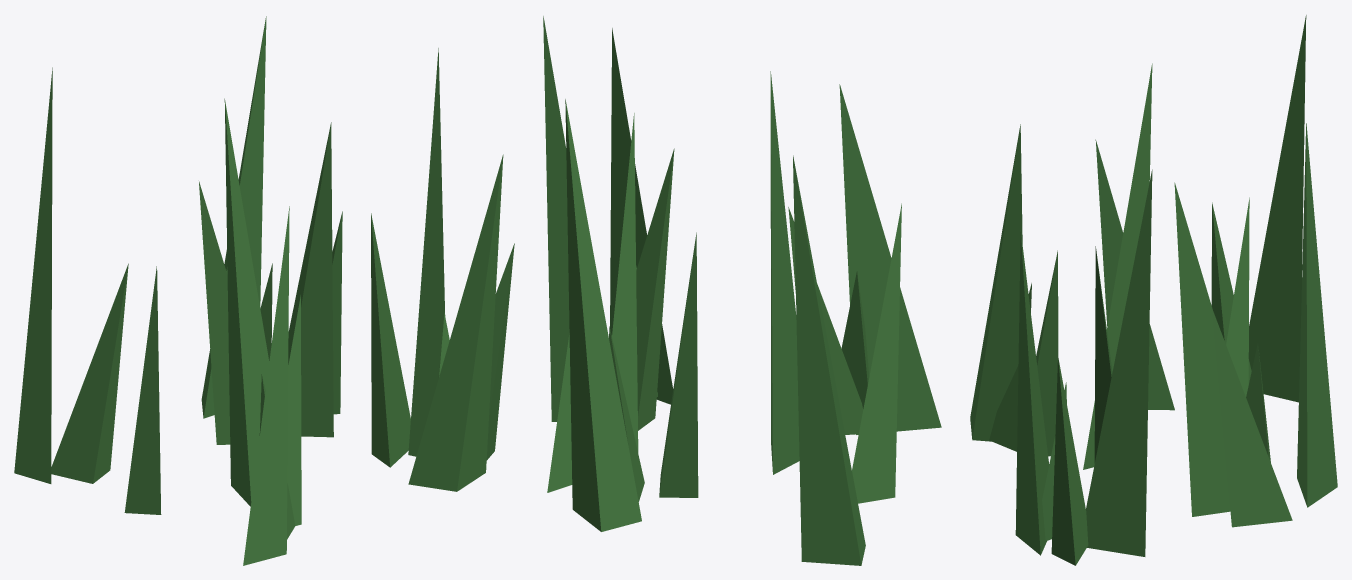
The model's file is Grass.fbx.
The picture shows the model from 3 angles, left to right: view 1: azimuth 30°, elevation 25°; view 2: azimuth 150°, elevation 25°; view 3: azimuth 270°, elevation 25°; orthographic projection. The views are drawn at different scales.
Visible parts, largest first — view 1: pCone1, pCone9, pCone11, pCone15, pCone6, pCone17, pCone2, pCone3, pCone7, pCone14, pCone12, pCone10 (+3 smaller); view 2: pCone14, pCone15, pCone6, pCone9, pCone7, pCone2, pCone12, pCone3, pCone1, pCone11, pCone10, pCone16 (+2 smaller); view 3: pCone2, pCone15, pCone11, pCone14, pCone6, pCone16, pCone1, pCone4, pCone9, pCone7, pCone10, pCone12 (+5 smaller).
Part boxes in pixels (<box>): pCone1: <box>408,154,503,491</box>; pCone9: <box>224,98,269,506</box>; pCone11: <box>288,122,333,437</box>; pCone15: <box>14,67,52,483</box>; pCone6: <box>243,206,289,565</box>; pCone17: <box>51,263,128,483</box>; pCone2: <box>408,48,445,456</box>; pCone3: <box>371,213,410,467</box>; pCone7: <box>124,266,161,514</box>; pCone14: <box>201,16,266,418</box>; pCone12: <box>199,181,230,444</box>; pCone10: <box>287,295,301,525</box>; pCone14: <box>565,99,641,531</box>; pCone15: <box>793,155,865,565</box>; pCone6: <box>839,84,941,434</box>; pCone9: <box>770,71,799,474</box>; pCone7: <box>852,203,901,503</box>; pCone2: <box>543,16,569,421</box>; pCone12: <box>659,232,698,497</box>; pCone3: <box>636,148,674,430</box>; pCone1: <box>610,28,673,404</box>; pCone11: <box>612,113,638,452</box>; pCone10: <box>788,207,863,434</box>; pCone16: <box>547,333,572,492</box>; pCone2: <box>1086,169,1152,556</box>; pCone15: <box>1248,15,1306,402</box>; pCone11: <box>1174,182,1230,516</box>; pCone14: <box>1297,123,1337,507</box>; pCone6: <box>970,124,1022,441</box>; pCone16: <box>1212,308,1292,527</box>; pCone1: <box>1015,230,1049,555</box>; pCone4: <box>1051,356,1088,565</box>; pCone9: <box>1083,63,1152,469</box>; pCone7: <box>1095,139,1174,410</box>; pCone10: <box>1036,250,1058,456</box>; pCone12: <box>1226,197,1249,396</box>.
Bounding box in the file's own units: 2.52 × 2.37 × 2.02.
